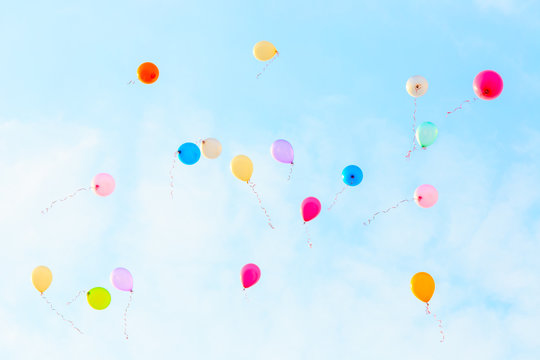Balloon: (473, 71, 502, 100), (410, 273, 436, 301), (415, 121, 439, 148), (110, 267, 135, 292), (231, 155, 254, 181), (272, 139, 295, 165), (91, 171, 115, 195), (404, 74, 427, 99), (31, 267, 54, 292), (87, 288, 113, 309), (252, 42, 279, 62), (416, 185, 438, 208), (241, 264, 261, 289), (178, 143, 200, 165), (137, 62, 159, 84), (342, 166, 364, 186), (301, 198, 320, 221), (202, 137, 221, 160)
